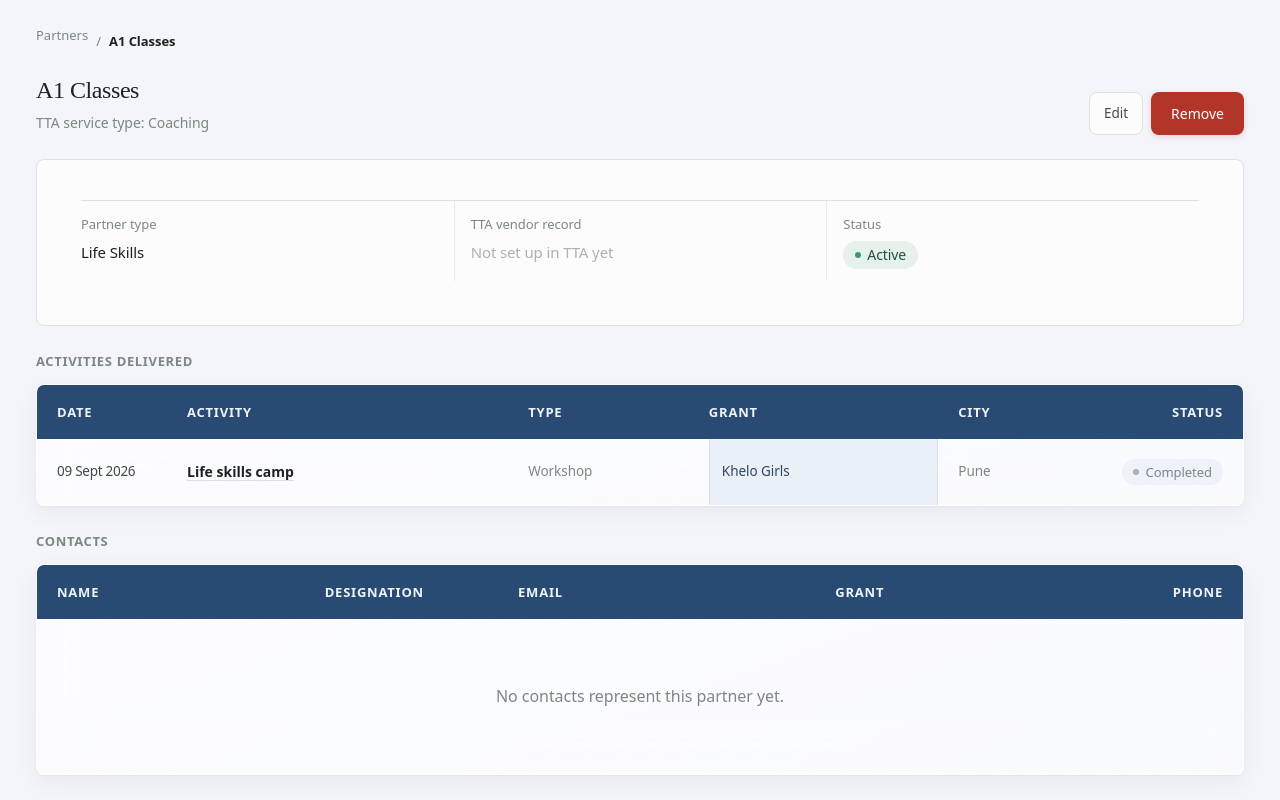
Test case: a partner in use cannot be removed and the server says why
Step 1. Click the button "Remove" → (1198, 113), box [1151, 92, 1244, 135]
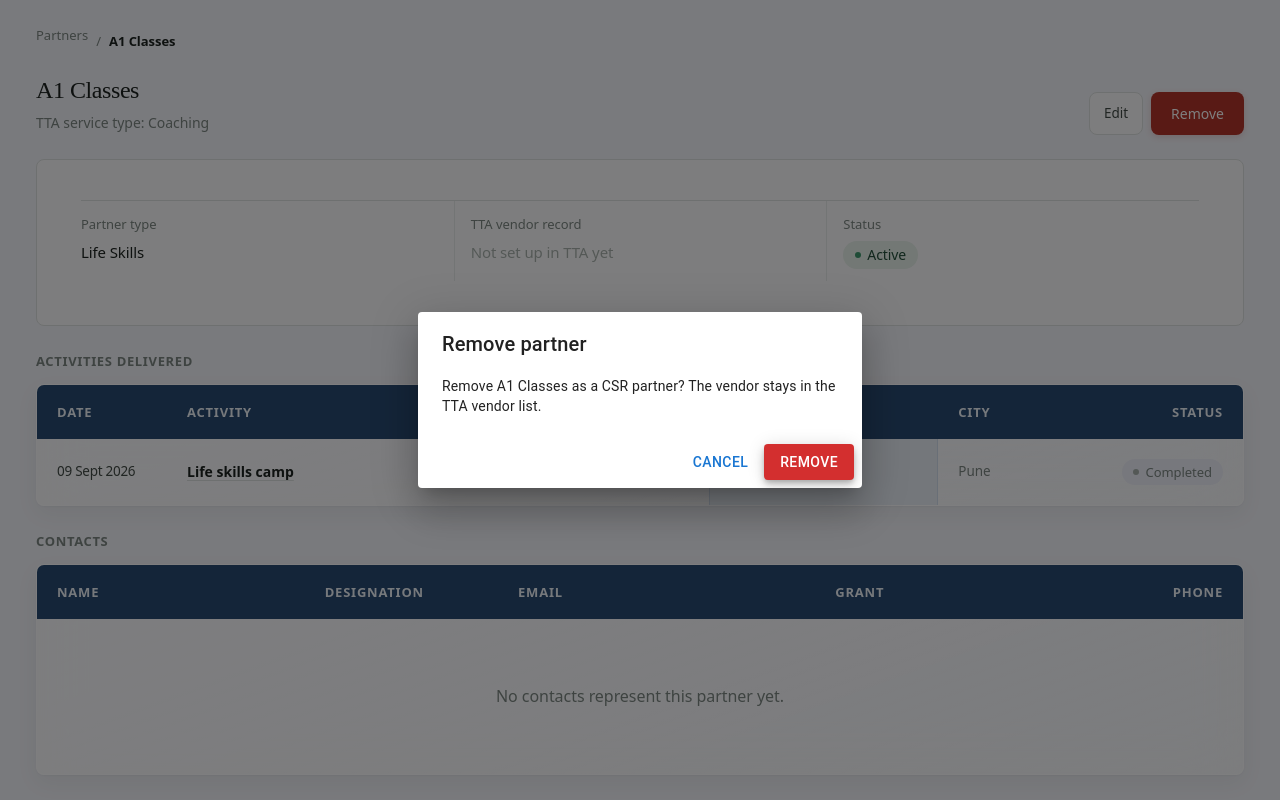
Step 2. Click the button "Remove" → (809, 462), box [764, 444, 854, 480]
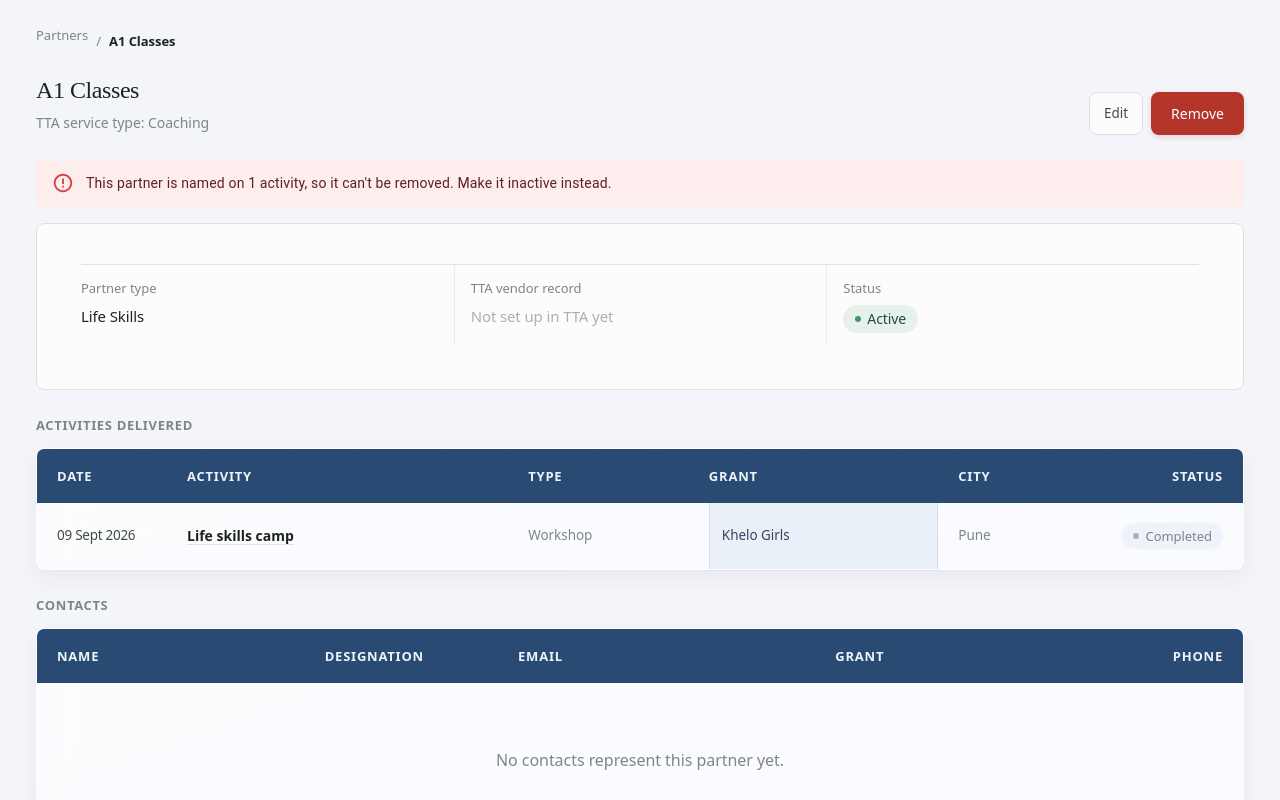
Expected: the text "This partner is named on 1 activity, so it can't be removed. Make it inactive instead." is shown, [86, 175, 612, 191]
